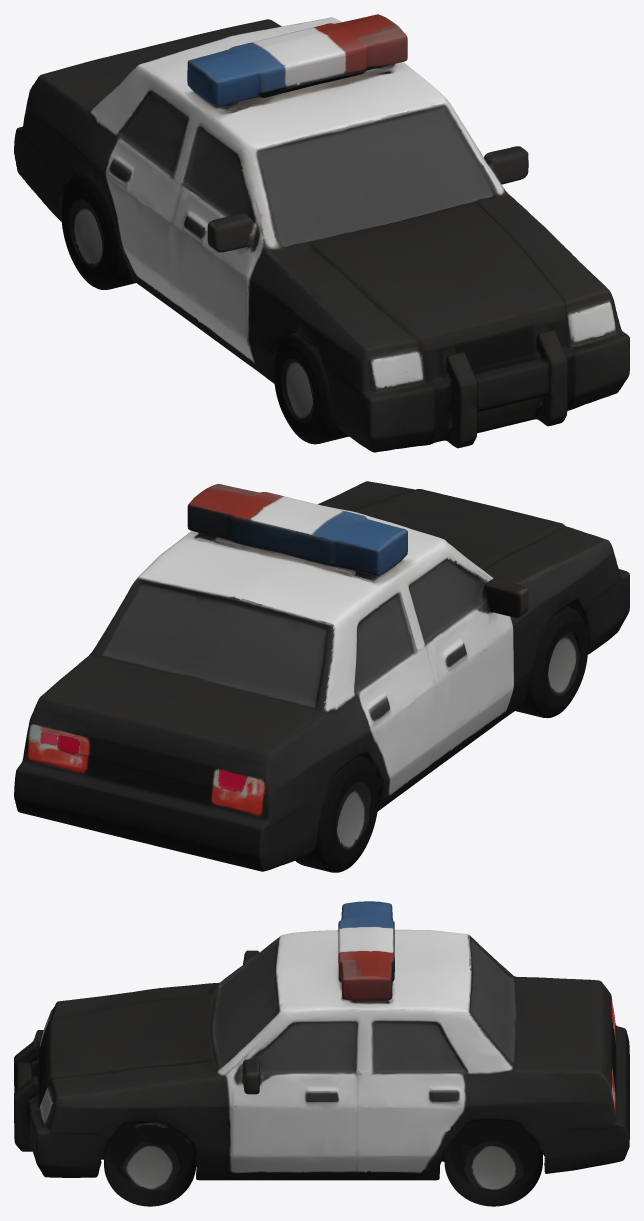
The model's file is Policecar_lod.glb.
The picture shows the model from 3 angles, top to bottom: view 1: azimuth 30°, elevation 25°; view 2: azimuth 150°, elevation 25°; view 3: azimuth 270°, elevation 25°; orthographic projection. The views are drawn at different scales.
Visible parts, largest first — view 1: world, Wheel_PR, Wheel_NR; view 2: world, Wheel_PR, Wheel_NR; view 3: world, Wheel_PL, Wheel_NL.
Part boxes in pixels (bbox=[...]): world: bbox=[14, 14, 629, 452]; Wheel_PR: bbox=[61, 173, 135, 289]; Wheel_NR: bbox=[274, 333, 348, 444]; world: bbox=[14, 481, 629, 871]; Wheel_PR: bbox=[295, 755, 378, 872]; Wheel_NR: bbox=[515, 609, 587, 718]; world: bbox=[14, 901, 629, 1180]; Wheel_PL: bbox=[444, 1119, 542, 1206]; Wheel_NL: bbox=[104, 1123, 196, 1206].
Size of the model in its own units: 0.48 by 0.3903 by 1.
1 material, 1 textured.
